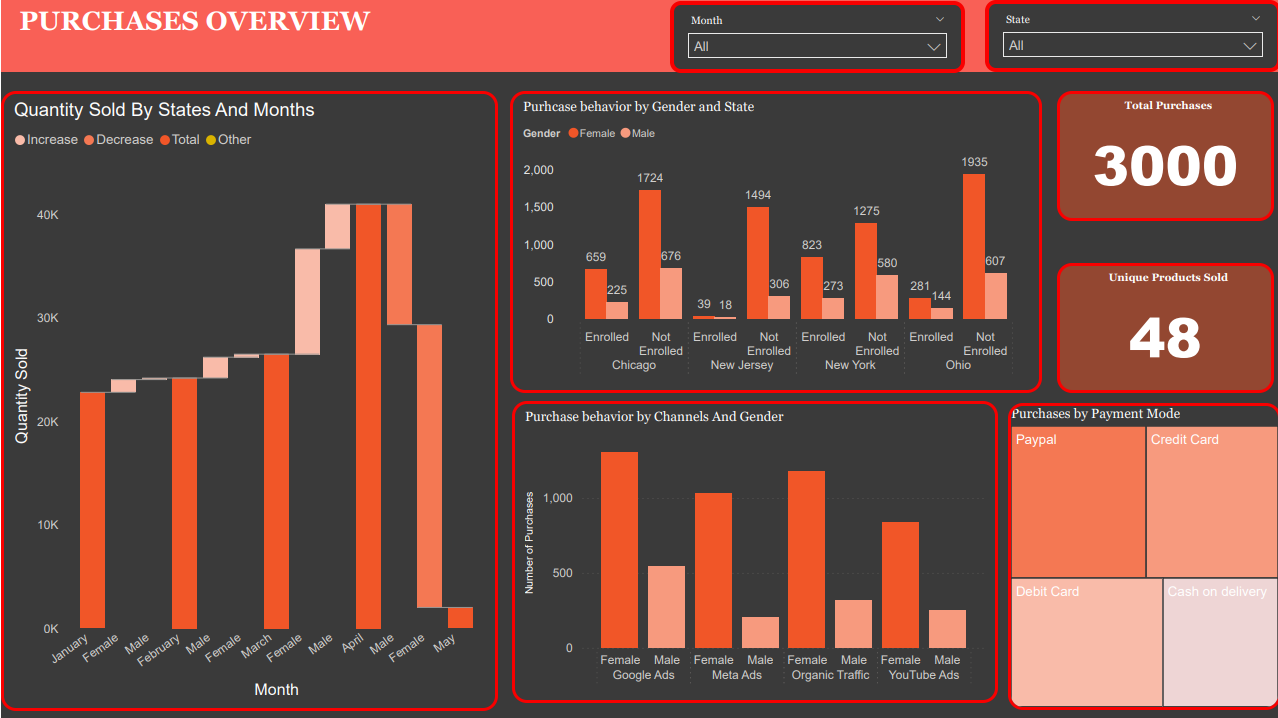

The dashboard page shown, as its layout file describes it:
{"tool":"powerbi","page":{"name":"Purchase Behavior Analytics","canvas":[1280,720],"ordinal":3},"visuals":[{"type":"shape","box":[0,0,1280,72.2],"z":0},{"type":"textbox","box":[0,1.4,1062.9,70],"z":1000},{"type":"card","title":"Total Purchases","fields":{"Values":["Count(Purchase_Data_CMA.purchase_id)"]},"box":[1055.7,91.4,217.1,130],"z":2000},{"type":"slicer","fields":{"Values":["MASTER_CUSTOMER_TABLE.state"]},"box":[983.6,0,296.4,71.8],"z":3000},{"type":"slicer","fields":{"Values":["Loyalty_Program_Data_CMA.enrollment_date.Variation.Date Hierarchy.Month"]},"box":[668.6,1.4,295.7,71.4],"z":5000},{"type":"clusteredColumnChart","title":"Purhcase behavior by Gender and State","fields":{"Category":["Web_analytics_Data_CMA.user_location","Loyalty_Program_Data_CMA.enrollment_status"],"Series":["MASTER_CUSTOMER_TABLE.gender"],"Y":["Count(Purchase_Data_CMA.purchase_id)"]},"box":[508.6,91.4,532.9,301.4],"z":7000},{"type":"treemap","title":"Purchases by Payment Mode","fields":{"Group":["Purchase_Data_CMA.payment_method"],"Values":["Count(Purchase_Data_CMA.purchase_id)"]},"box":[1007.1,402.9,272.9,307.1],"z":9000},{"type":"clusteredColumnChart","title":"Purchase behavior by Channels And Gender","fields":{"Category":["MASTER_CUSTOMER_TABLE.traffic_Channel","MASTER_CUSTOMER_TABLE.gender"],"Y":["Count(Purchase_Data_CMA.purchase_id)"]},"box":[511.4,401.4,485.7,301.4],"z":10000},{"type":"card","title":"Unique Products Sold","fields":{"Values":["Count(Purchase_Data_CMA.product_id)"]},"box":[1055.7,262.9,217.1,130],"z":10001},{"type":"waterfallChart","title":"Quantity Sold By States And Months","fields":{"Y":["Sum(Purchase_Data_CMA.quantity)"],"Category":["Web_analytics_Data_CMA.date_of_visit.Variation.Date Hierarchy.Month"],"Breakdown":["MASTER_CUSTOMER_TABLE.gender"]},"box":[0,91.4,497.1,620],"z":10002}]}

Visuals, with their boxes in screenshot pixels (x1, y1, x2, y2), scaled from the page's 1280x720 canvas onto the 1278x718 screenshot:
shape: region(0, 0, 1277, 72)
textbox: region(0, 1, 1061, 71)
"Total Purchases" card: region(1054, 91, 1271, 221)
slicer - MASTER_CUSTOMER_TABLE.state: region(982, 0, 1277, 72)
slicer - Loyalty_Program_Data_CMA.enrollment_date.Variation.Date Hierarchy.Month: region(668, 1, 963, 73)
"Purhcase behavior by Gender and State" clusteredColumnChart: region(508, 91, 1040, 392)
"Purchases by Payment Mode" treemap: region(1006, 402, 1277, 708)
"Purchase behavior by Channels And Gender" clusteredColumnChart: region(511, 400, 996, 701)
"Unique Products Sold" card: region(1054, 262, 1271, 392)
"Quantity Sold By States And Months" waterfallChart: region(0, 91, 496, 709)
